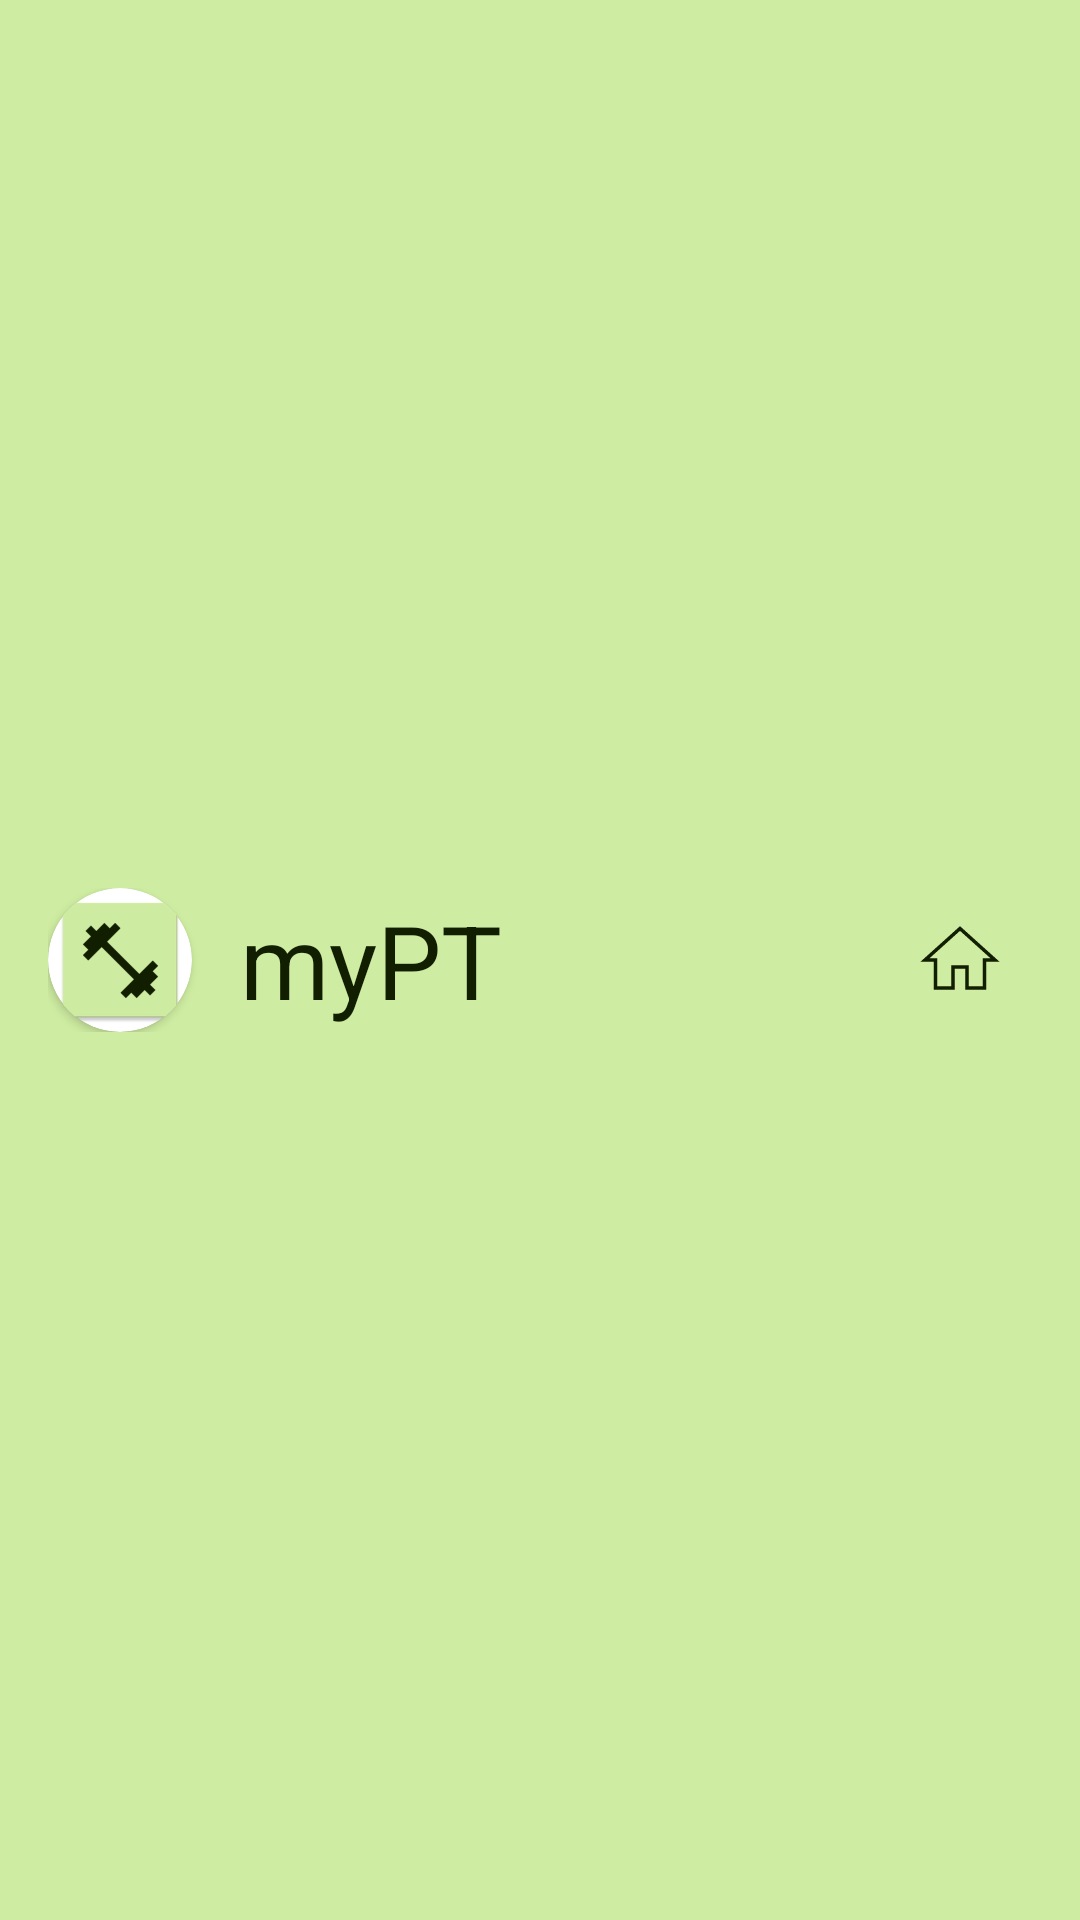

Screen size 1080x1920. Icon name, then its box in pixels as region(x1, y1, x2, y2):
home: region(920, 926, 1000, 990)
